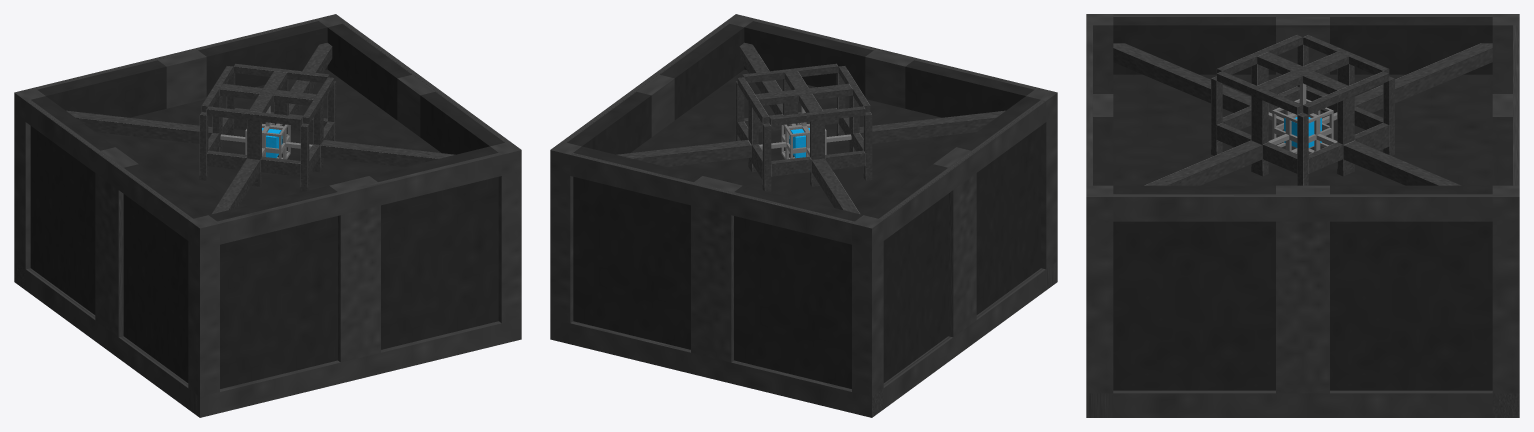
Rendered from fortronfieldconstructor.obj.
The picture shows the model from 3 angles, left to right: view 1: azimuth 30°, elevation 25°; view 2: azimuth 150°, elevation 25°; view 3: azimuth 270°, elevation 25°; orthographic projection. The views are drawn at different scales.
Parts seen in each view (by area): view 1: cube; view 2: cube; view 3: cube.
Part boxes in pixels (box(x1,y1,x2,y2)): cube: box(14, 14, 521, 417); cube: box(550, 14, 1057, 417); cube: box(1086, 14, 1519, 417).
Bounding box in the file's own units: 16 × 10.4 × 16.
